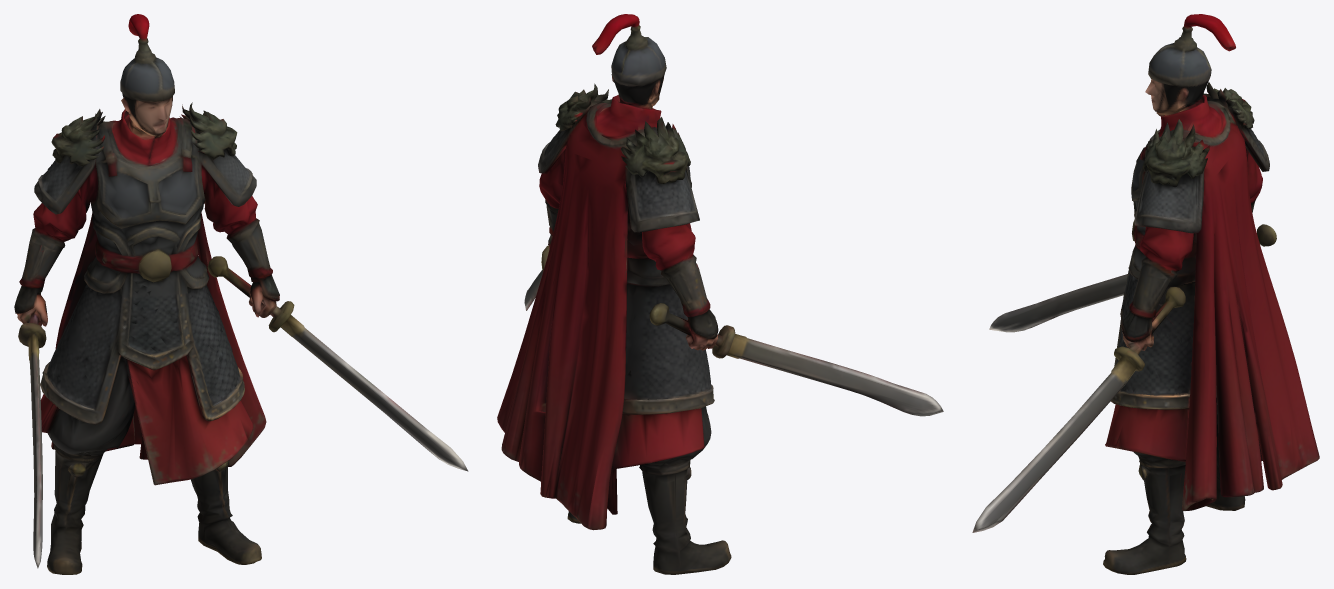
The model's file is guard-red-hy3-v1.glb.
3 views of the same model, side by side, from view 1: azimuth 30°, elevation 25°; view 2: azimuth 150°, elevation 25°; view 3: azimuth 270°, elevation 25° (orthographic).
Visible parts, largest first — view 1: node_0; view 2: node_0; view 3: node_0.
Part boxes in pixels (left/top/right/bottom): node_0: left=14, top=14, right=468, bottom=574; node_0: left=497, top=14, right=943, bottom=574; node_0: left=972, top=14, right=1319, bottom=574.
Bounding box in the file's own units: 1.49 × 1.78 × 1.07.
Materials: 1 (1 with a texture image).
